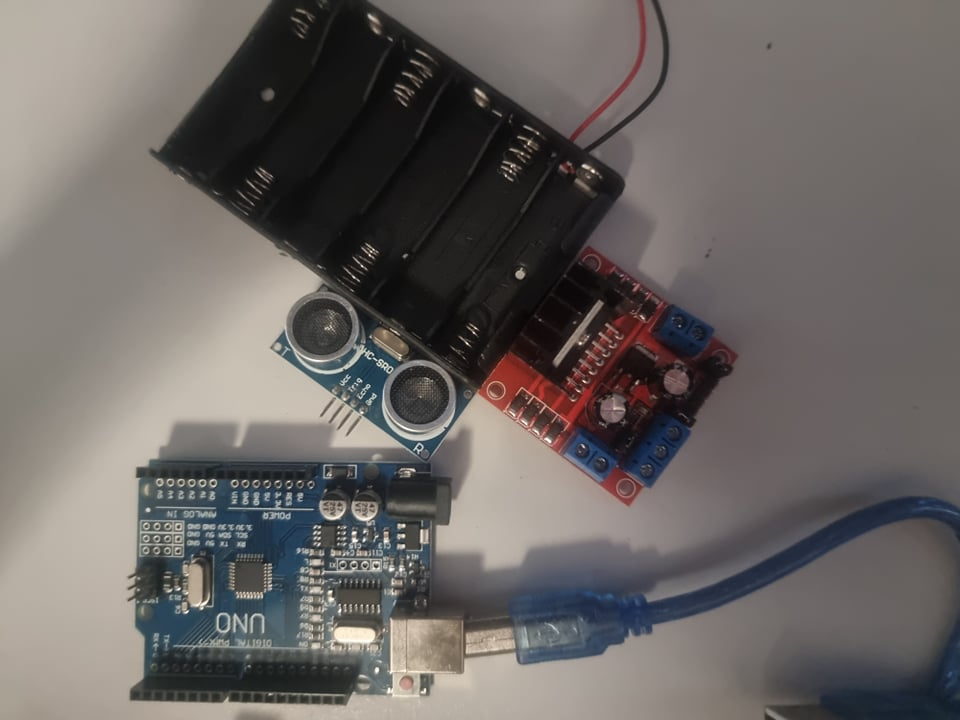BATTERY BOX: (143, 2, 625, 368)
MOTOR: (477, 251, 738, 506)
SENSOR: (270, 287, 465, 463)
UNO R3: (129, 455, 467, 713)
